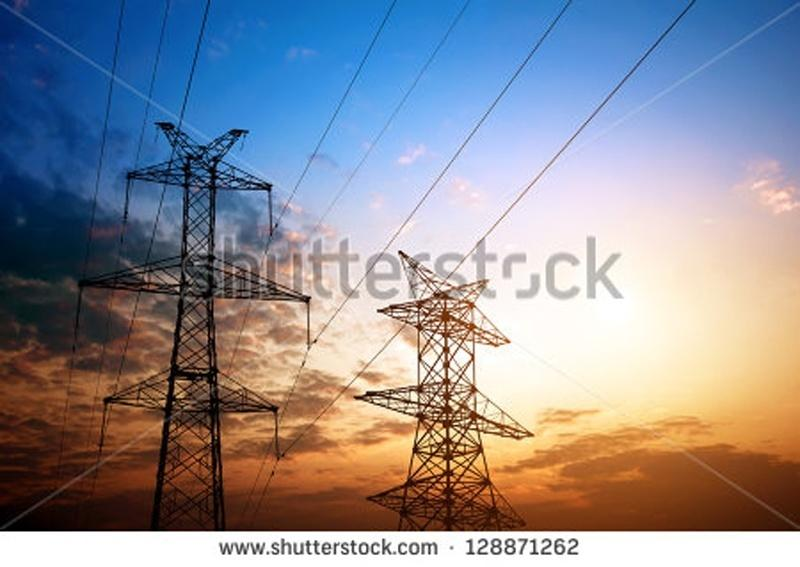power_tower: (116, 113, 281, 522), (386, 237, 511, 523)
